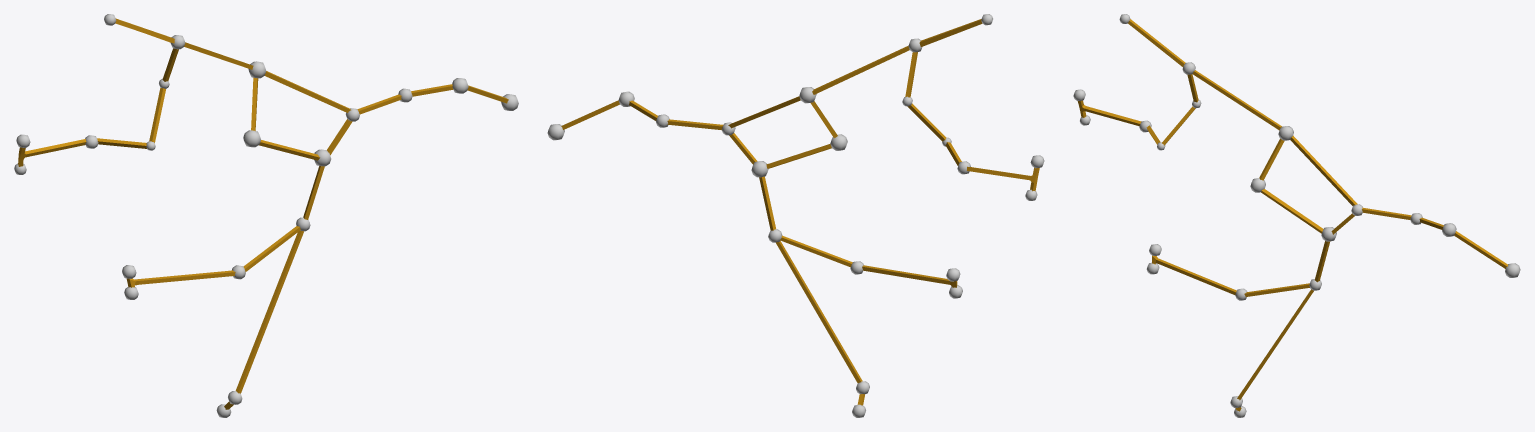
File: Constellation_Ursa_Major.fbx
3 renders of one model, left to right at view 1: azimuth 30°, elevation 25°; view 2: azimuth 150°, elevation 25°; view 3: azimuth 330°, elevation 25°, orthographic. The views are drawn at different scales.
Parts seen in each view (by area): view 1: Constellation_Ursa_Major; view 2: Constellation_Ursa_Major; view 3: Constellation_Ursa_Major.
Boxes of the visible parts, x1=… form: Constellation_Ursa_Major: x1=14, y1=14, x2=518, y2=417; Constellation_Ursa_Major: x1=547, y1=14, x2=1044, y2=417; Constellation_Ursa_Major: x1=1073, y1=14, x2=1520, y2=417.
Bounding box in the file's own units: 39.65 × 32.98 × 4.17.
